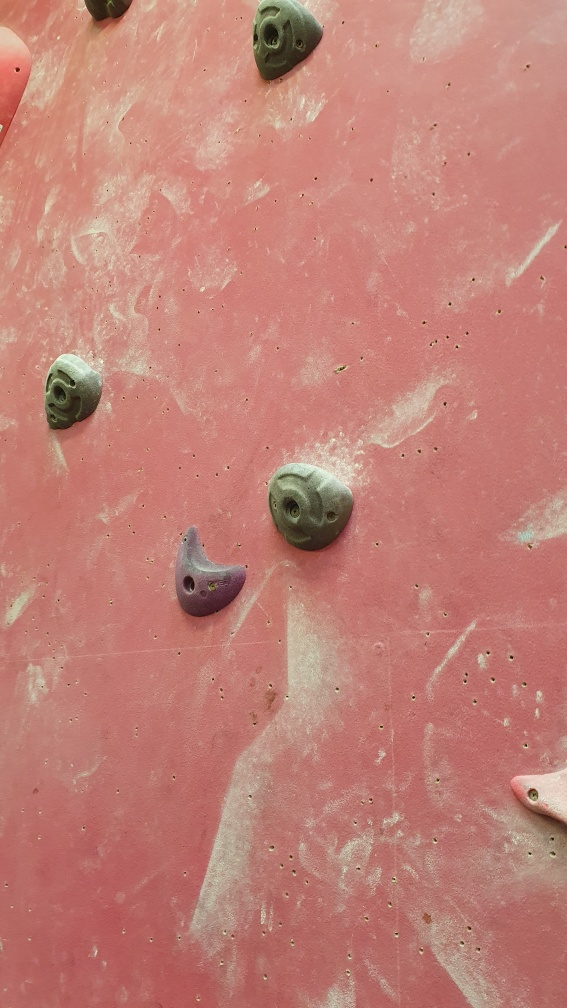Jug: (265, 462, 358, 550), (246, 1, 322, 79), (38, 351, 107, 432)
